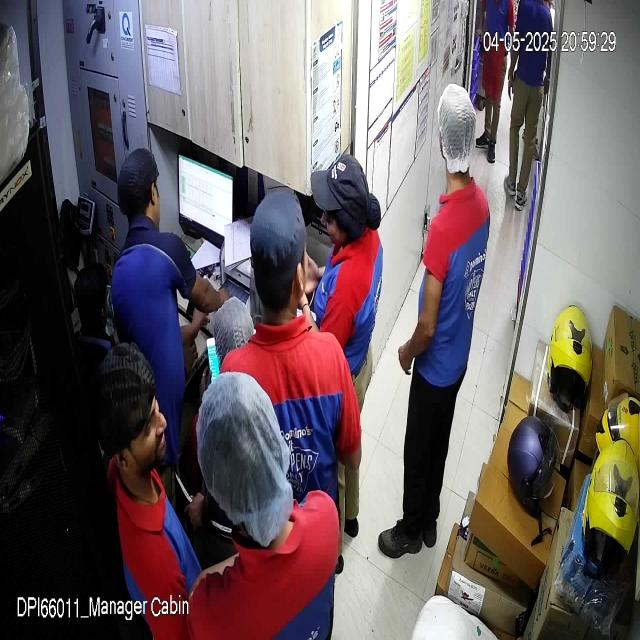helmet: (584, 439, 639, 580), (507, 414, 561, 519), (546, 307, 592, 403)
